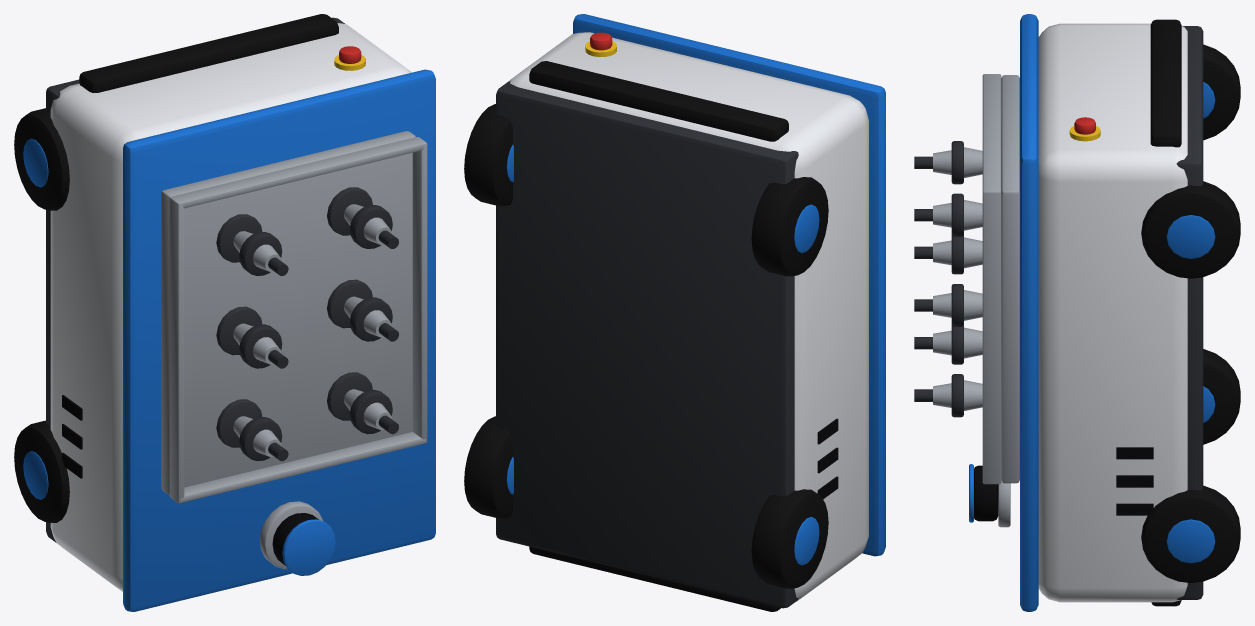
The model's file is AGV_Small.fbx.
The picture shows the model from 3 angles, left to right: view 1: azimuth 30°, elevation 25°; view 2: azimuth 150°, elevation 25°; view 3: azimuth 270°, elevation 25°; orthographic projection. The views are drawn at different scales.
Parts seen in each view (by area): view 1: Rim, Tray, Shell, Rear Bumper, Lip.001, Lip, Lip.002, Lip.003, Tire.002, Tire.003, Cap, Skirt (+16 smaller); view 2: Skirt, Shell, Rim, Rear Bumper, Tire.002, Tire.003, Tire, Tire.001, Front Bumper, Hub.002, Hub.003; view 3: Shell, Rim, Tray, Skirt, Lip, Tire, Tire.001, Rear Bumper, Tire.002, Tire.003, Lip.002, Hub.001 (+18 smaller).
Boxes of the visible parts, box(x1,y1,x2,y2) form: Rim: box(123, 69, 435, 611); Tray: box(161, 131, 415, 494); Shell: box(50, 23, 411, 591); Rear Bumper: box(79, 14, 338, 92); Lip.001: box(169, 197, 184, 503); Lip: box(412, 137, 427, 442); Lip.002: box(172, 137, 425, 208); Lip.003: box(180, 432, 425, 503); Tire.002: box(14, 108, 69, 210); Tire.003: box(14, 420, 69, 522); Cap: box(282, 519, 335, 575); Skirt: box(46, 17, 344, 542); Skirt: box(496, 81, 798, 608); Shell: box(508, 32, 868, 601); Rim: box(573, 14, 885, 556); Rear Bumper: box(529, 61, 788, 141); Tire.002: box(751, 177, 828, 276); Tire.003: box(751, 489, 828, 588); Tire: box(464, 104, 512, 206); Tire.001: box(464, 416, 512, 518); Front Bumper: box(529, 546, 780, 611); Hub.002: box(794, 204, 819, 252); Hub.003: box(794, 517, 819, 565); Shell: box(1038, 23, 1187, 602); Rim: box(1020, 14, 1038, 611); Tray: box(1001, 75, 1019, 483); Skirt: box(1176, 26, 1203, 599); Lip: box(982, 190, 1001, 484); Tire: box(1141, 181, 1240, 278); Tire.001: box(1141, 485, 1240, 582); Rear Bumper: box(1150, 19, 1181, 147); Tire.002: box(1203, 44, 1240, 140); Tire.003: box(1203, 349, 1240, 444); Lip.002: box(982, 74, 1001, 191); Hub.001: box(1166, 519, 1215, 563).
Size of the model in its own units: 0.584 by 0.845 by 0.525.
